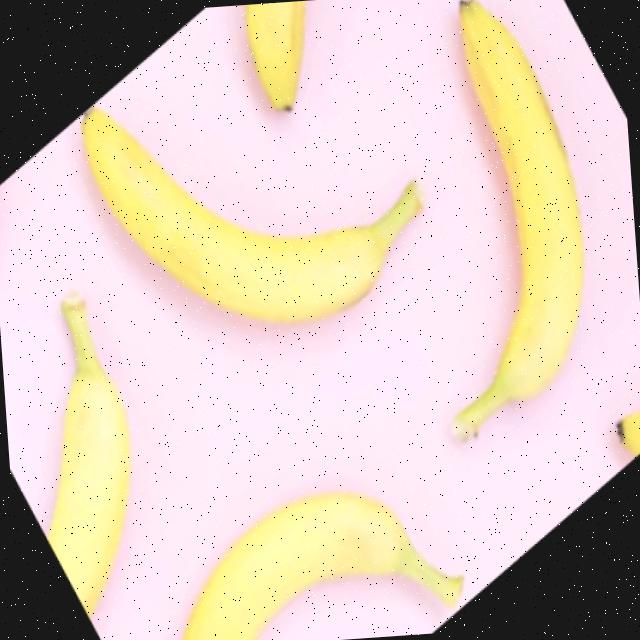banana: (61, 52, 454, 364), (411, 0, 614, 469), (121, 441, 493, 640), (10, 256, 169, 619)
